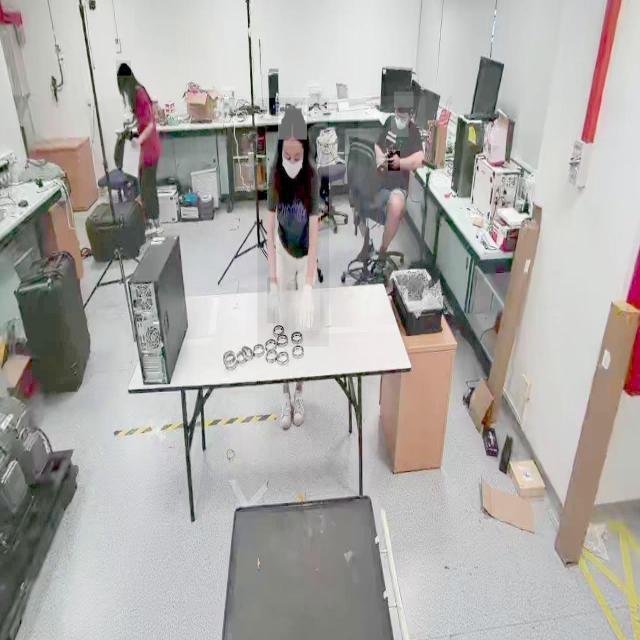face_mask: (281, 146, 307, 185), (391, 113, 409, 137)
hand_glove: (296, 278, 320, 332), (267, 278, 280, 324)
hand_noglove: (388, 151, 400, 172), (130, 131, 140, 153)
head_nohelmet: (278, 105, 308, 140), (394, 92, 414, 108), (116, 60, 132, 76)
person: (258, 98, 330, 348), (111, 57, 179, 235), (358, 96, 426, 260)
shoes: (277, 388, 292, 432), (291, 388, 307, 427)
